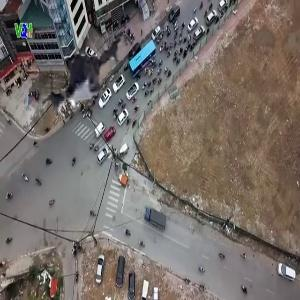drone: (28, 17, 142, 131)
